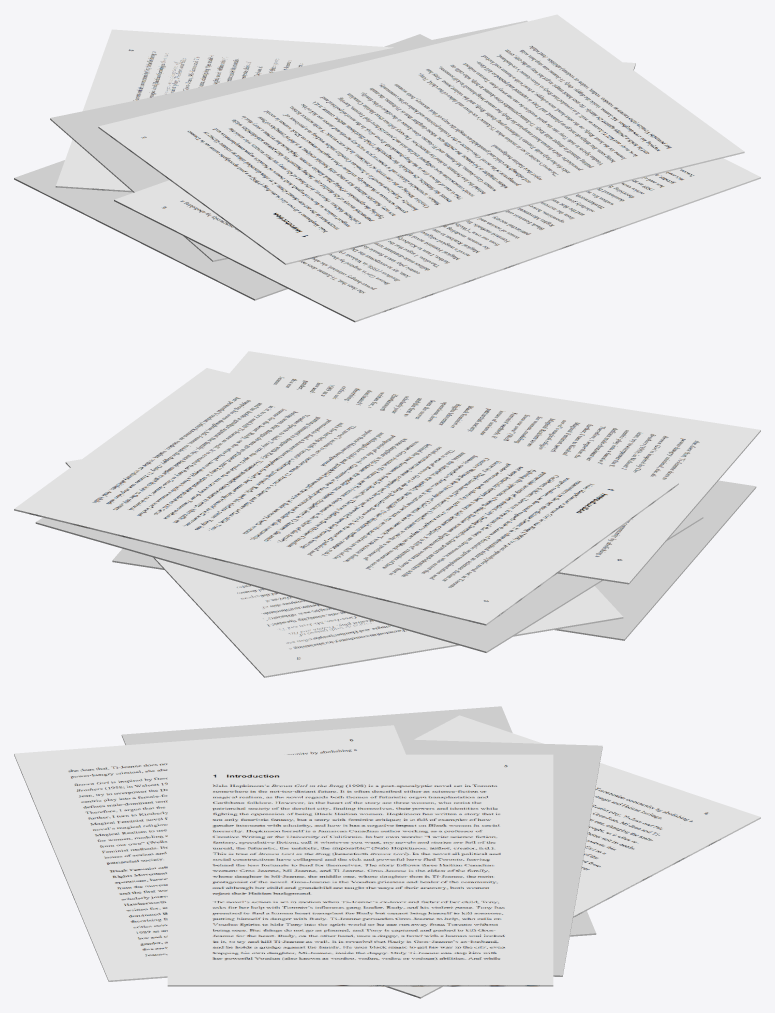
The model's file is paper_stack.fbx.
3 renders of one model, top to bottom at view 1: azimuth 30°, elevation 25°; view 2: azimuth 150°, elevation 25°; view 3: azimuth 270°, elevation 25°, orthographic. The views are drawn at different scales.
Parts seen in each view (by area): view 1: paper_top, paper_middle, paper_bottom, paper_white.001, paper_white; view 2: paper_top, paper_middle, paper_bottom, paper_white.001, paper_white; view 3: paper_top, paper_middle, paper_bottom, paper_white.001, paper_white.
Part boxes in pixels (x1,y1,x2,y2): paper_top: (98,14,744,264); paper_middle: (114,158,760,322); paper_bottom: (55,29,635,192); paper_white.001: (50,20,527,261); paper_white: (14,34,431,300); paper_top: (14,368,678,625); paper_middle: (229,351,760,584); paper_bottom: (65,459,623,677); paper_white.001: (35,513,703,652); paper_white: (112,480,756,640); paper_top: (167,754,553,986); paper_middle: (14,725,405,981); paper_bottom: (385,715,760,998); paper_white.001: (217,733,602,976); paper_white: (121,706,596,936).
Bounding box in the file's own units: 37.7 × 0.49 × 40.67.
